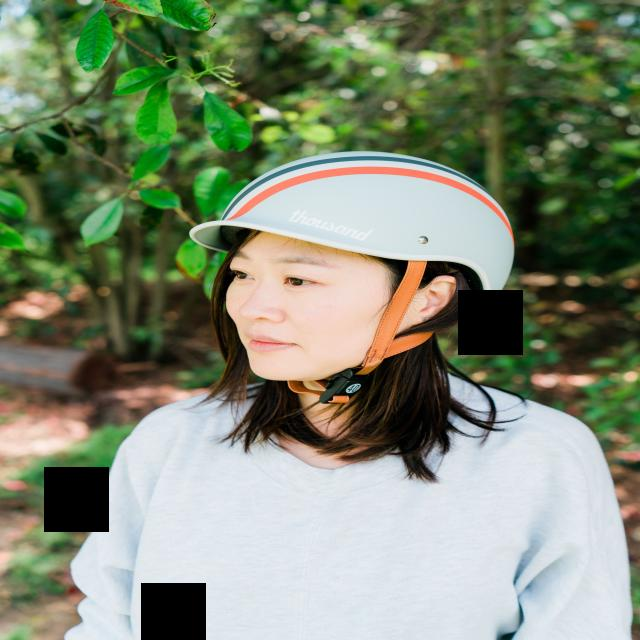Helmet: (190, 151, 518, 385)
